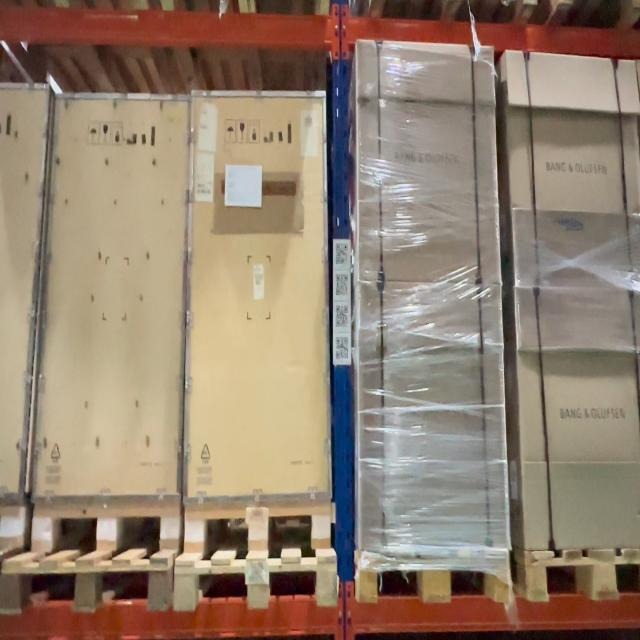box: (193, 95, 324, 496), (55, 102, 179, 492), (364, 295, 504, 544), (361, 50, 495, 282)
